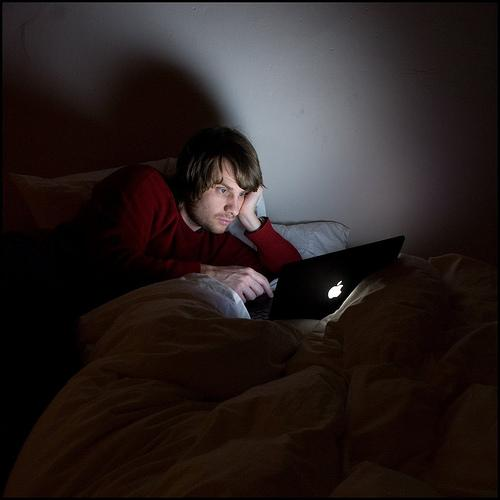person: (2, 128, 304, 351)
